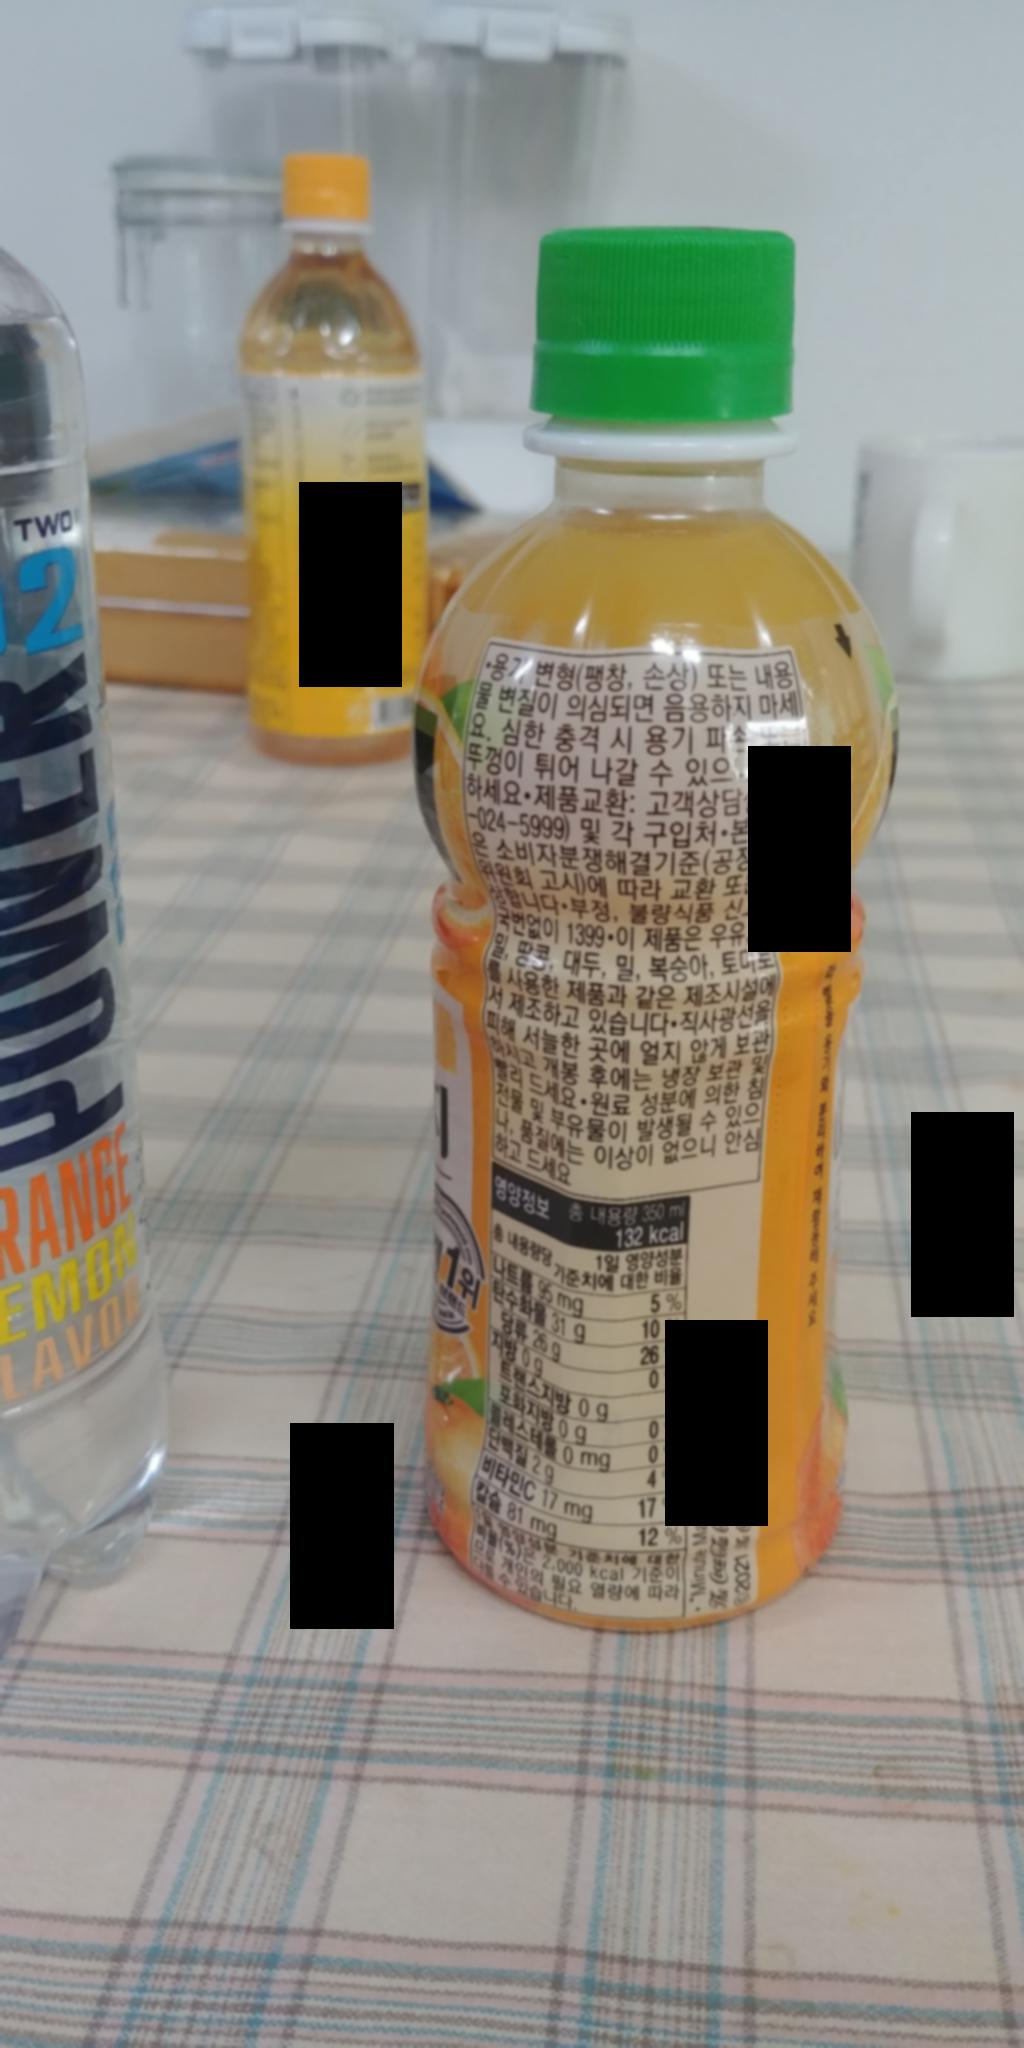minutemaid_org_orange: (419, 216, 857, 1637)
